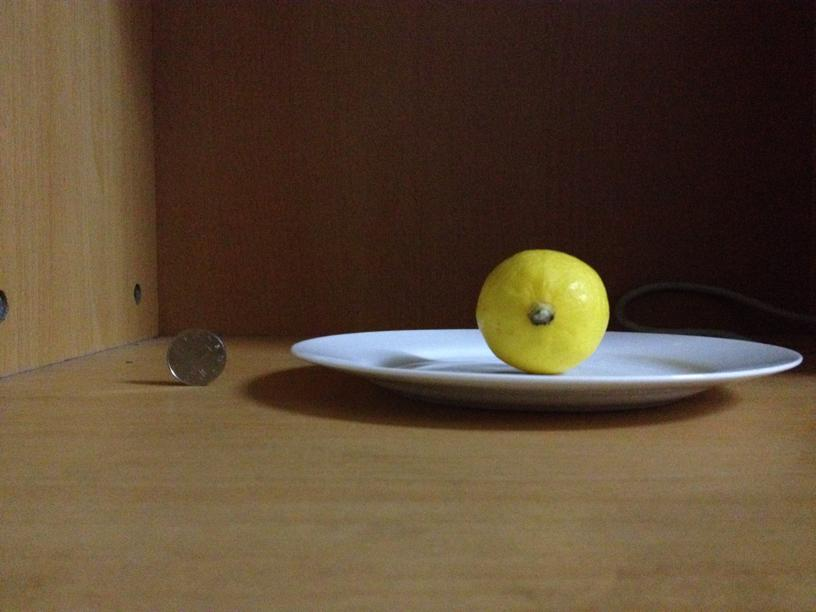coin: (166, 328, 226, 386)
lemon: (472, 248, 611, 373)
